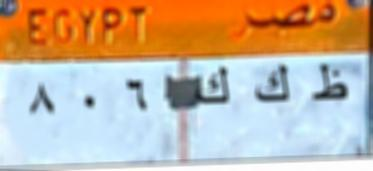0: (78, 87, 99, 119)
6: (121, 74, 154, 117)
8: (21, 84, 59, 122)
Thaa: (308, 60, 347, 113)
kaaf: (191, 65, 238, 109), (251, 60, 294, 108)
